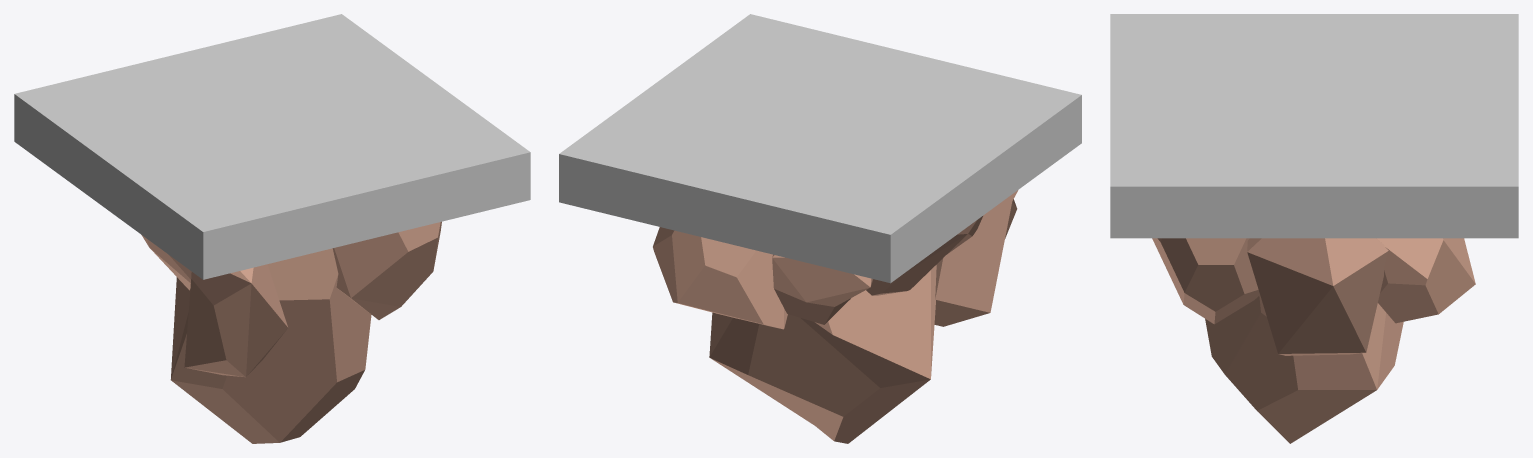
Rendered from floatingisle.fbx.
3 renders of one model, left to right at view 1: azimuth 30°, elevation 25°; view 2: azimuth 150°, elevation 25°; view 3: azimuth 270°, elevation 25°, orthographic. The views are drawn at different scales.
Visible parts, largest first — view 1: Icosphere.005; view 2: Icosphere.005; view 3: Icosphere.005.
Part boxes in pixels (x1,y1,x2,y2): Icosphere.005: (14, 14, 530, 443); Icosphere.005: (559, 14, 1081, 443); Icosphere.005: (1110, 14, 1518, 443).
Size of the model in its own units: 1194 by 1089 by 1193.
